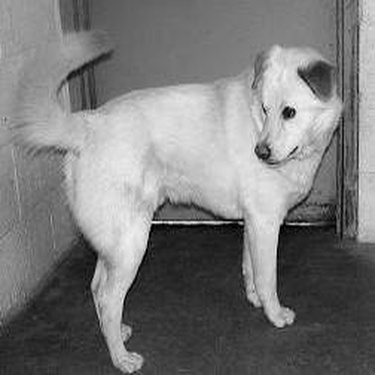dog: (5, 19, 344, 371)
